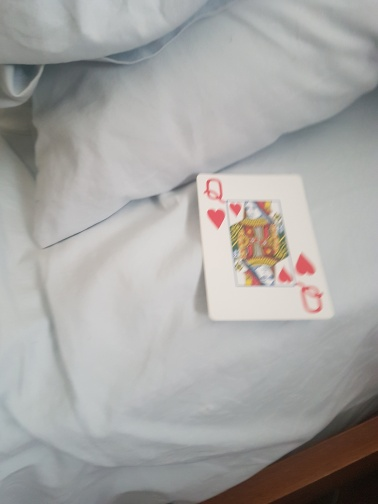queen: (196, 172, 337, 323)
